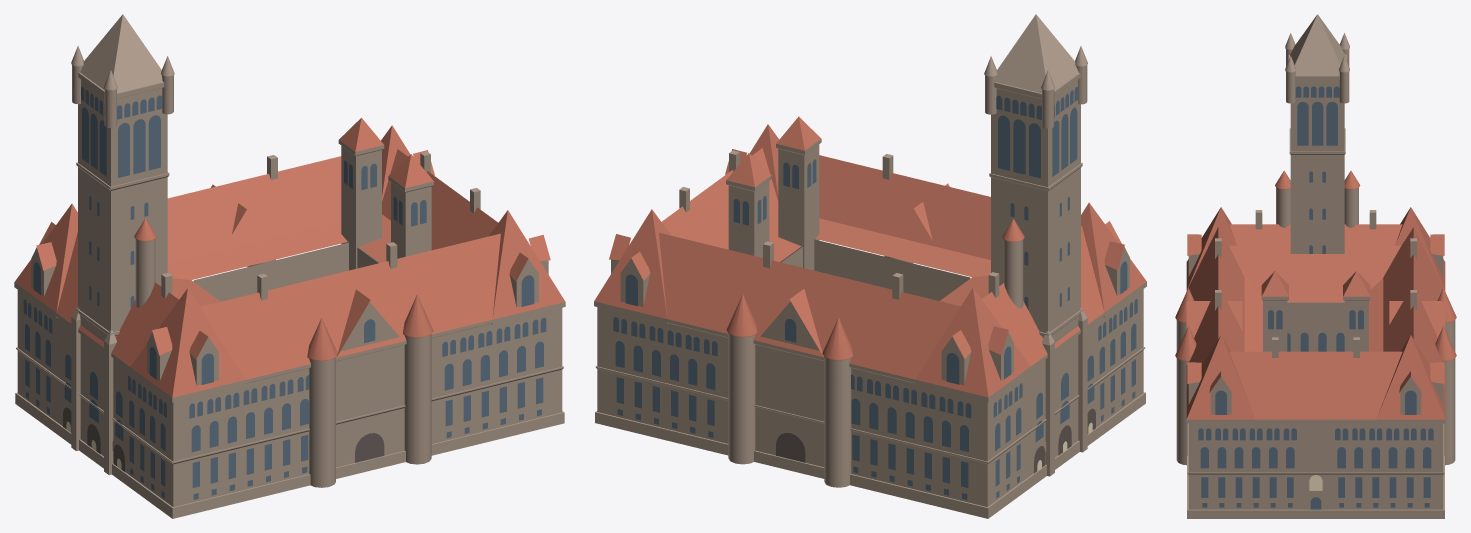
File: pit-allegheny-county-courthouse.glb
3 views of the same model, side by side, from view 1: azimuth 30°, elevation 25°; view 2: azimuth 150°, elevation 25°; view 3: azimuth 270°, elevation 25° (orthographic). The views are drawn at different scales.
Parts seen in each view (by area): view 1: Allegheny County Courthouse; view 2: Allegheny County Courthouse; view 3: Allegheny County Courthouse.
Boxes of the visible parts, x1=… form: Allegheny County Courthouse: x1=14, y1=14, x2=565, y2=518; Allegheny County Courthouse: x1=594, y1=14, x2=1146, y2=518; Allegheny County Courthouse: x1=1175, y1=14, x2=1456, y2=518.
Size of the model in its own units: 92.3 by 97.6 by 69.1.
